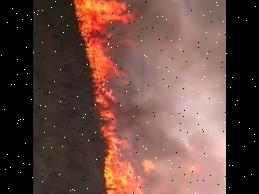fire: (58, 0, 141, 194)
